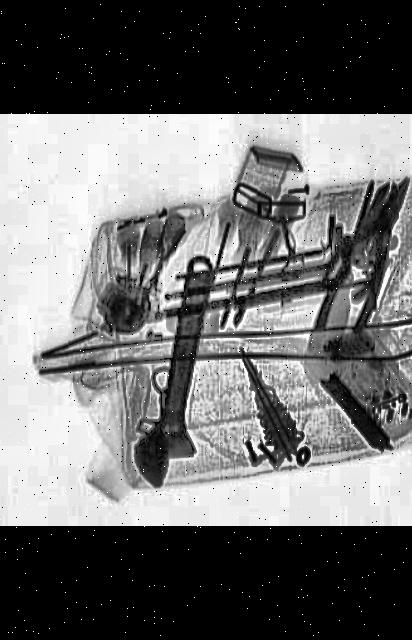Pliers: (307, 174, 412, 342)
Wrench: (124, 254, 232, 492)
